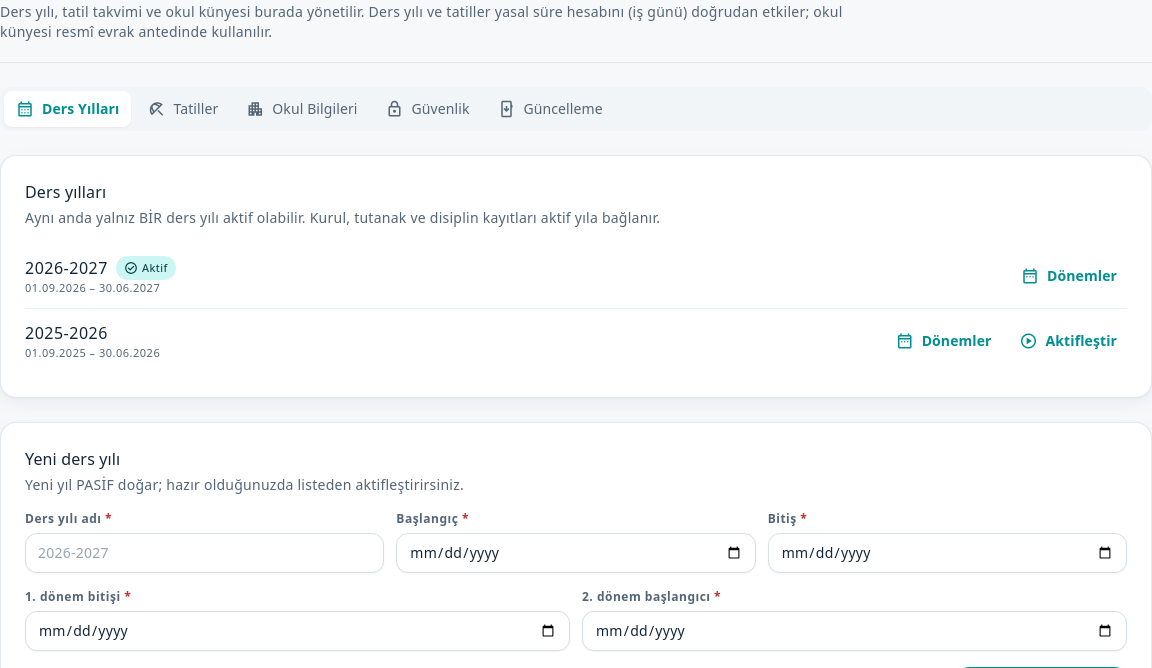
Test: AyarlarPage — ders yılları › oluşturma 400'ünde alan hatası ilgili alanın altında gösterilir
Expected: the text "2026-2027" is shown, [25,257,108,279]
Type "2027-2028" into the field labelled "Ders yılı adı *" at (205, 553), box [38,543,371,563]
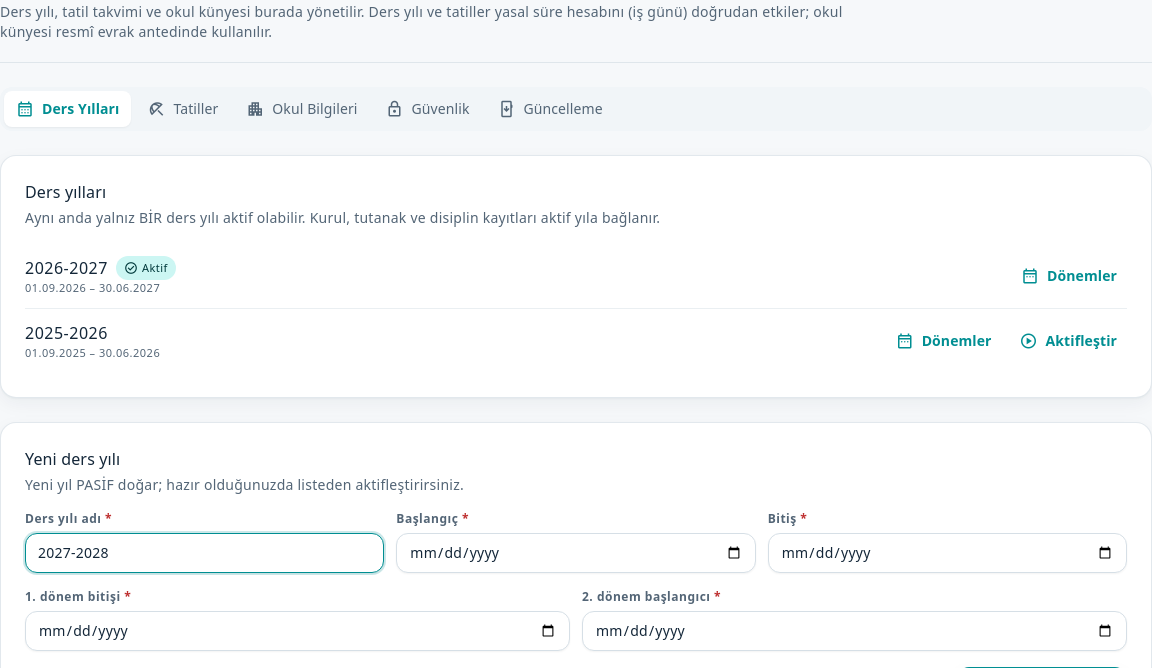
Type "2027-09-01" into the date field labelled "Başlangıç *" at (576, 553), box [409,542,743,564]
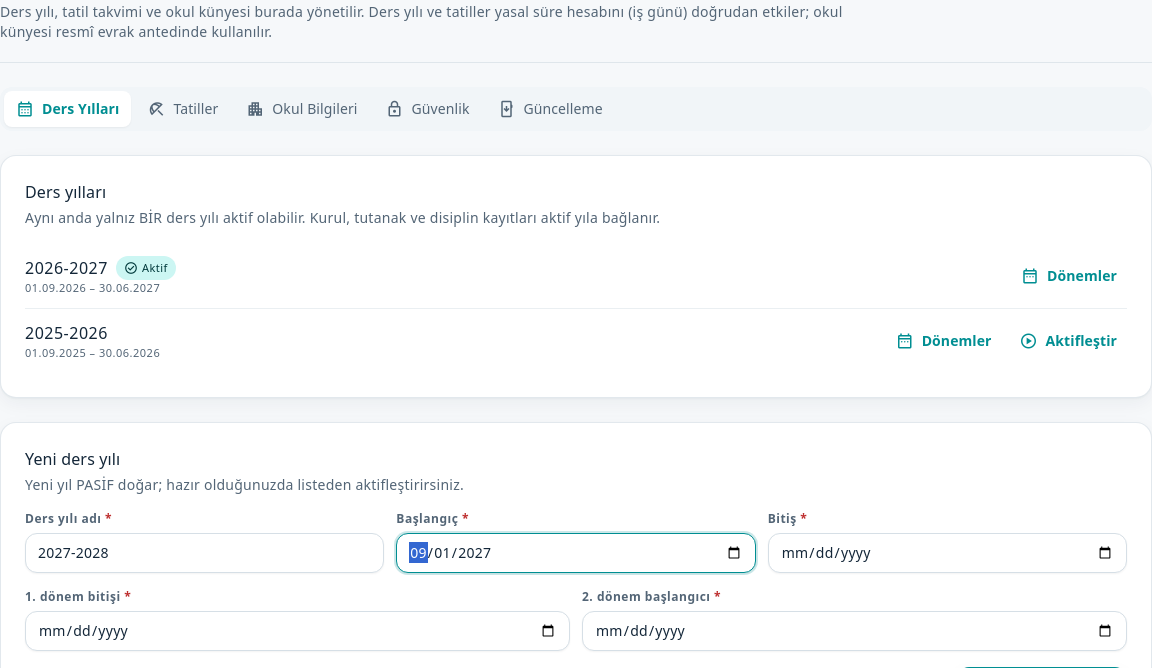
Type "2027-08-01" into the date field labelled "Bitiş *" at (947, 553), box [781,542,1114,564]
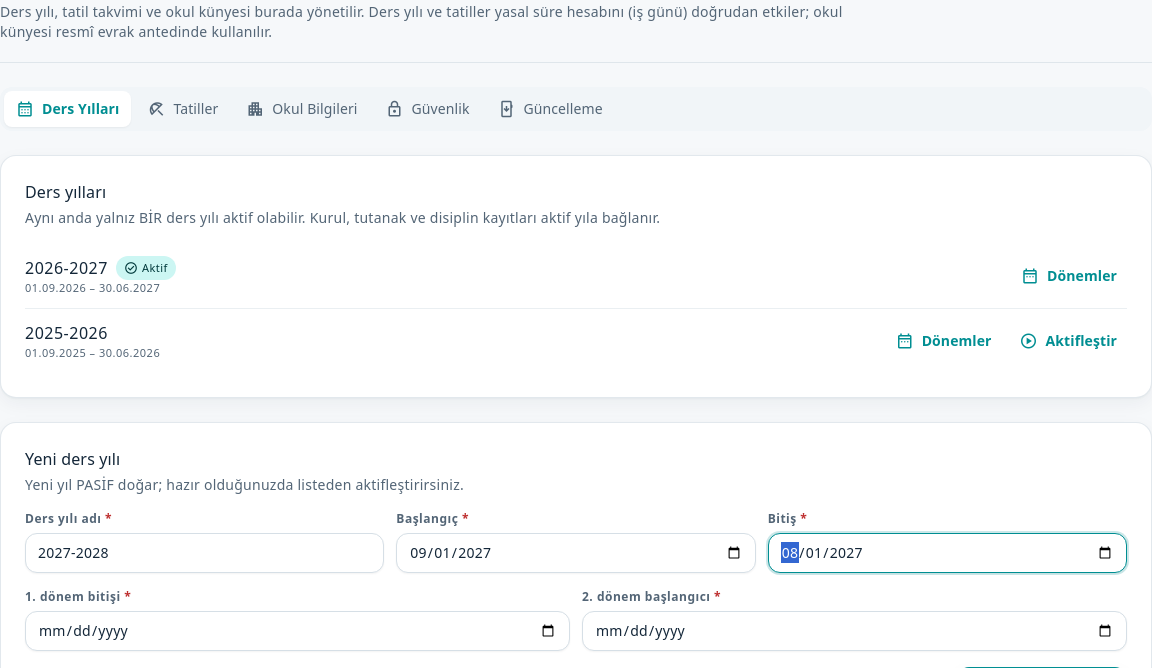
Type "2028-01-16" into the date field labelled "1. dönem bitişi *" at (298, 631), box [38,620,557,642]
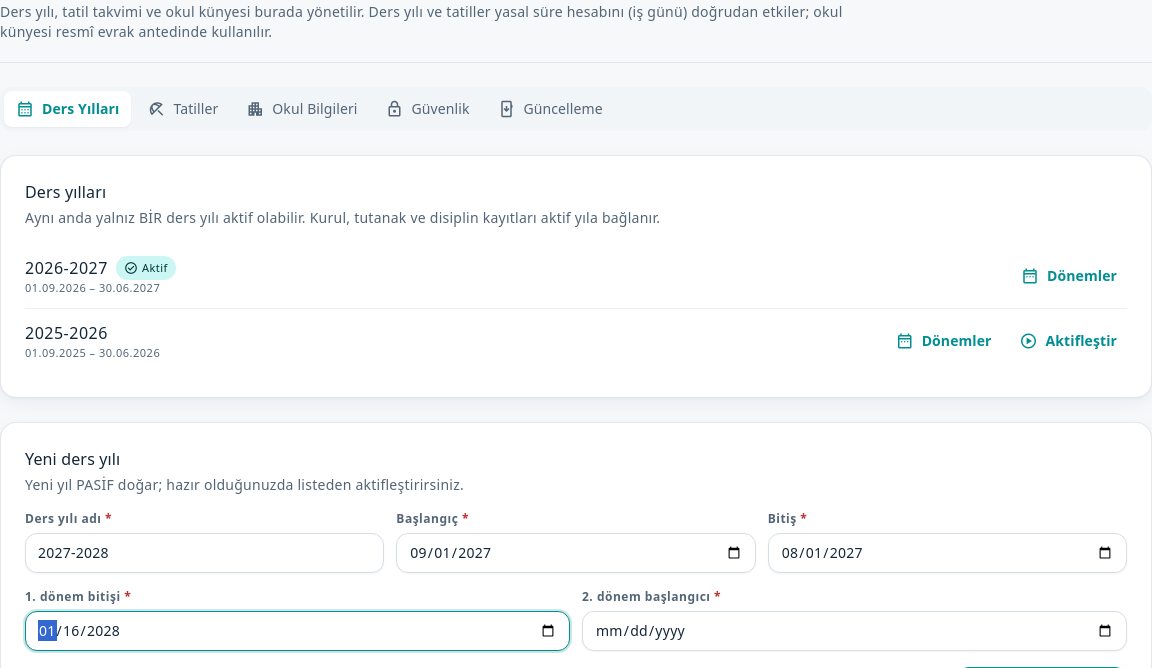
Type "2028-02-02" into the date field labelled "2. dönem başlangıcı *" at (854, 631), box [595,620,1114,642]
(page scrolled)
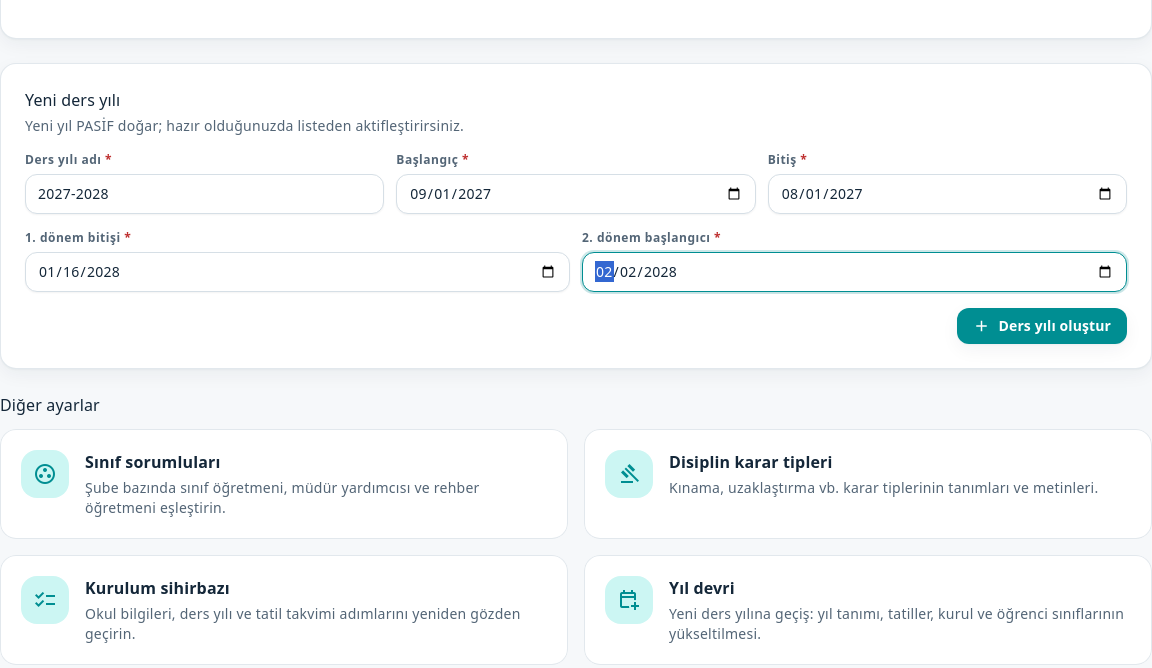
Click the button "Ders yılı oluştur" at (1042, 326), box [957,308,1127,344]
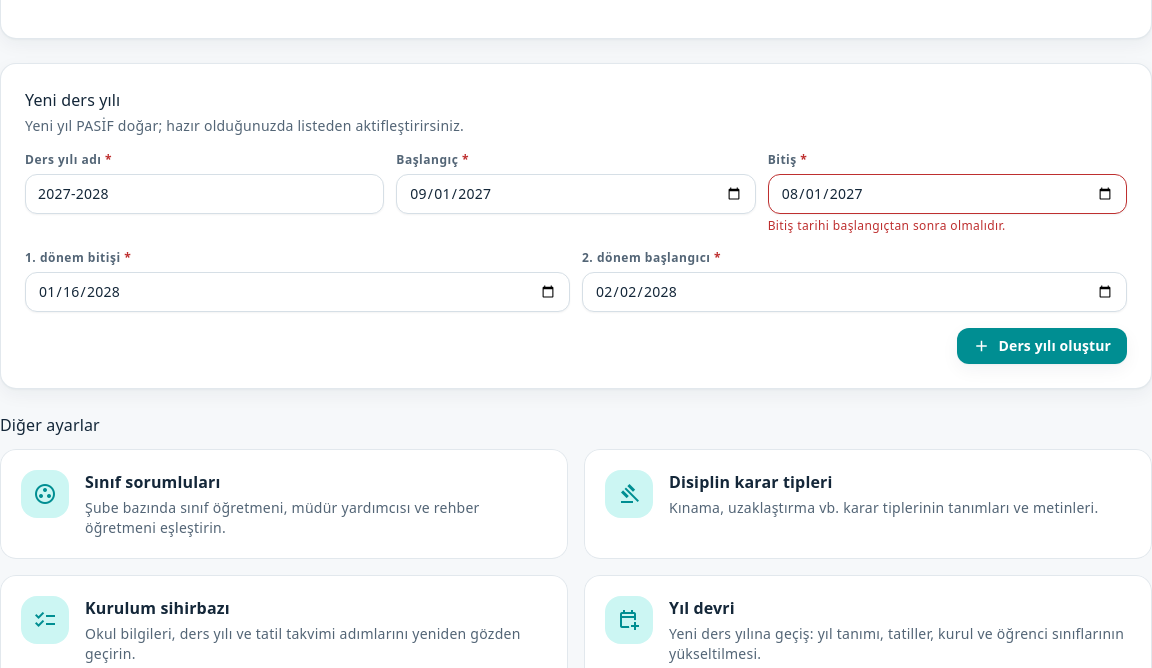
Expected: the text "Bitiş tarihi başlangıçtan sonra olmalıdır." is shown, [768,217,1006,234]
